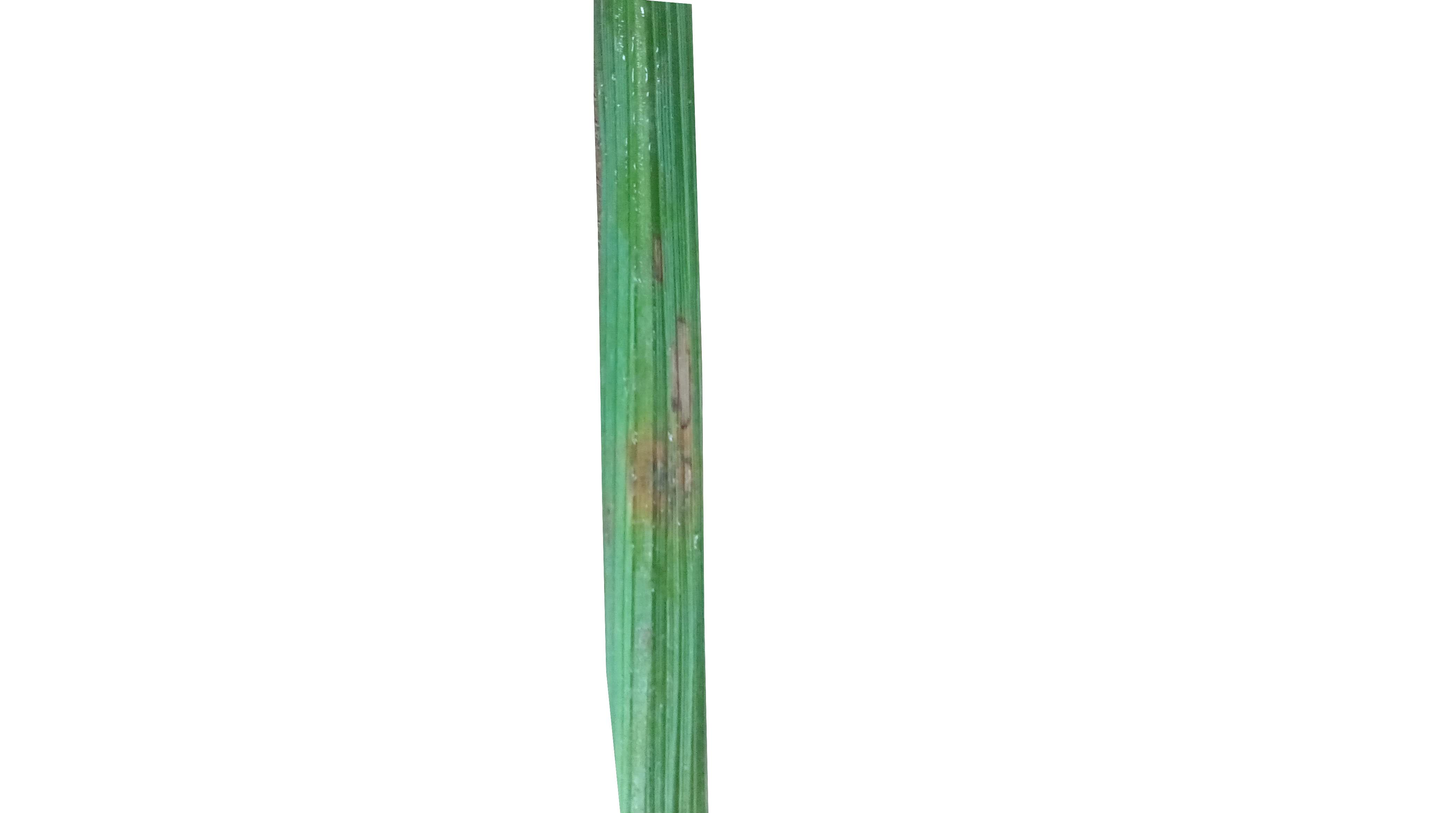Rice blast: (622, 308, 693, 573), (651, 229, 665, 288)
